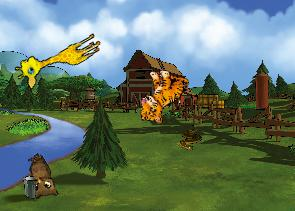giraffe: (11, 22, 104, 92)
owl: (15, 151, 63, 205)
tiger: (137, 66, 189, 126)
